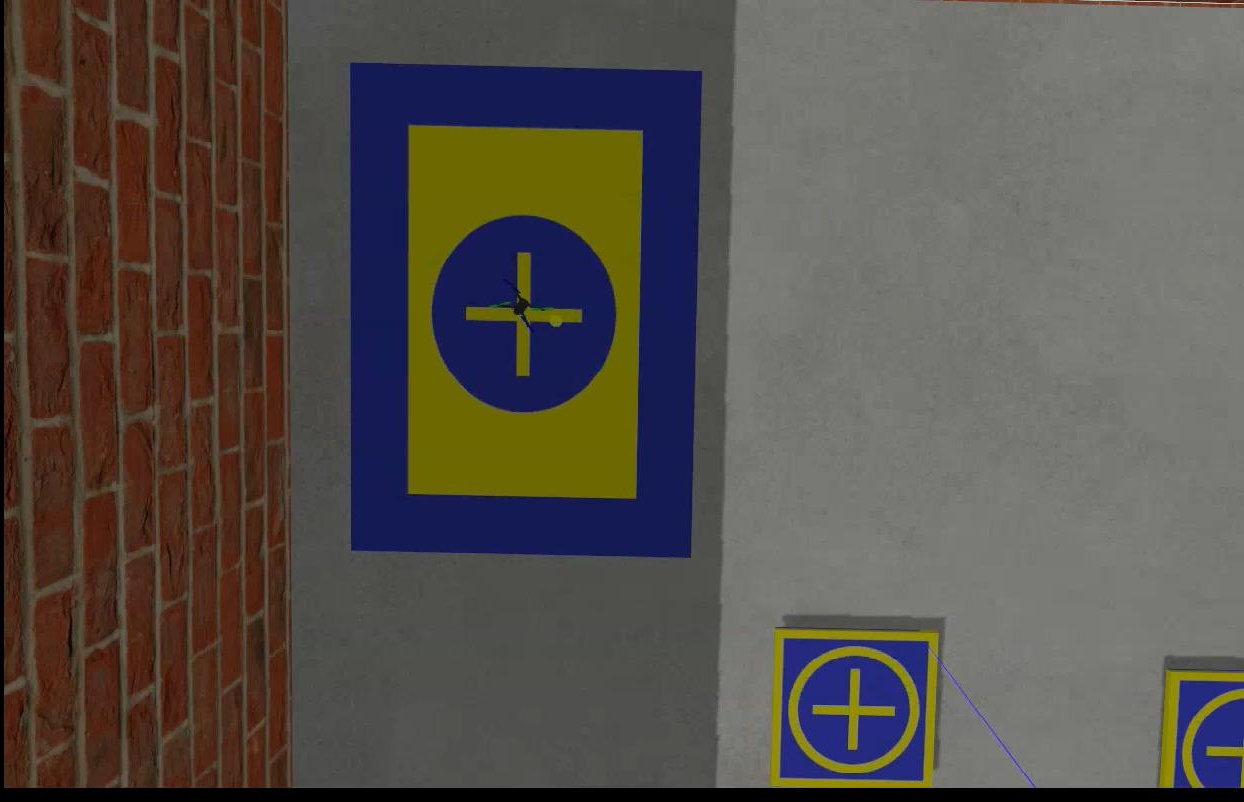large_base: (350, 64, 701, 558)
small_base: (767, 630, 940, 785), (1157, 666, 1242, 792)
